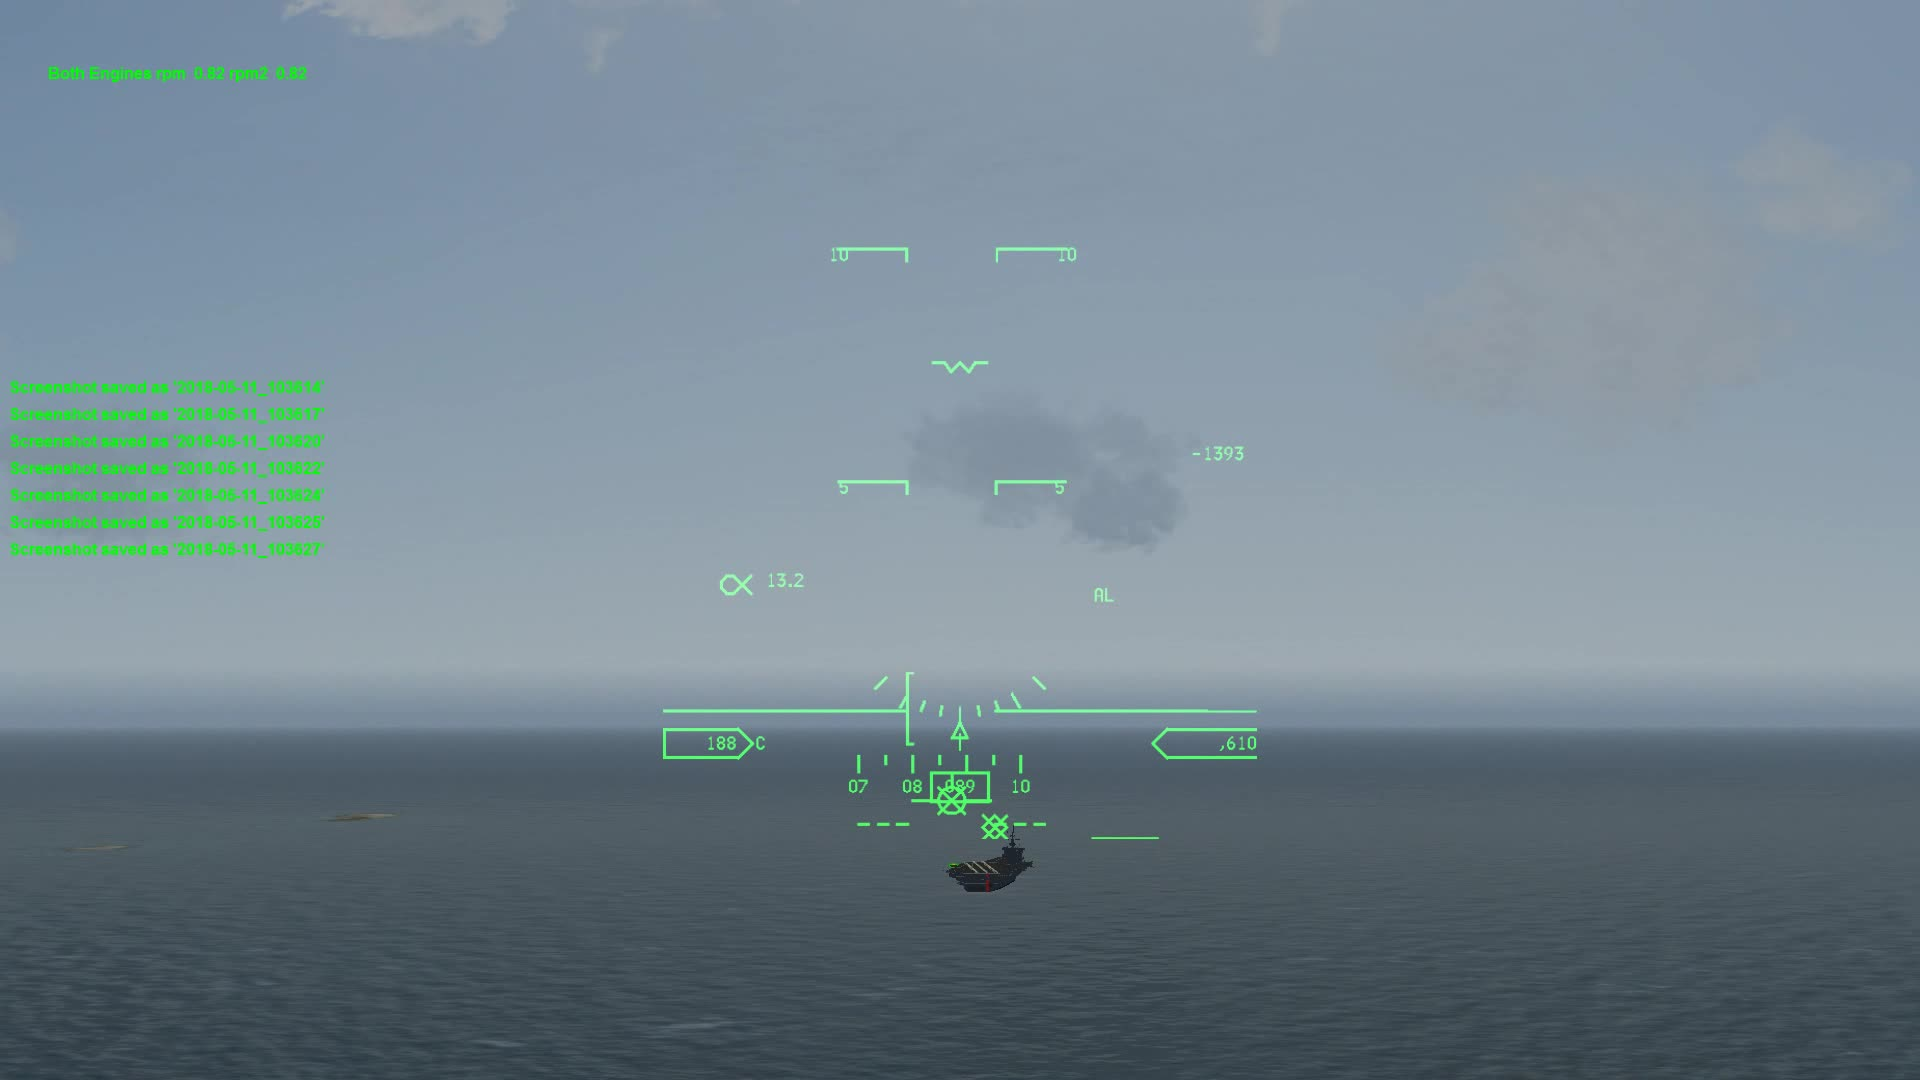speed vector: (907, 791, 993, 814)
